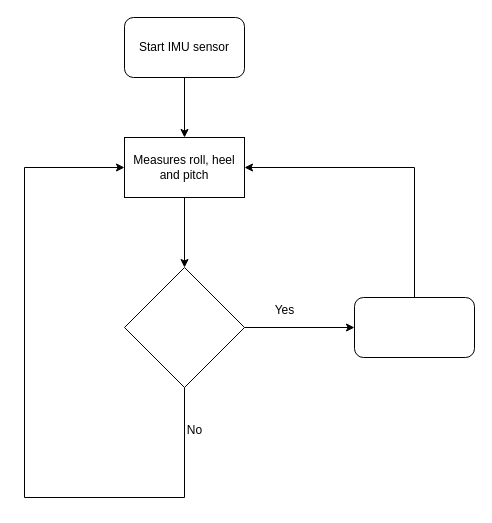
Image size: 492x523. Some labels were removed from this diagram. The shapes that lost their labels are listed below. From the top down, each one's centre as x and y in pixels, then its label:
At point (184, 327): "Heel > 30 degree".
At point (414, 327): "Turn on buzzer".
